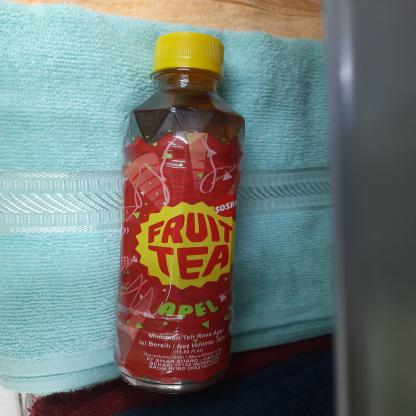bottle: (112, 29, 249, 393)
